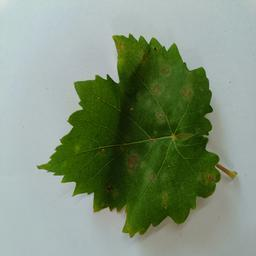Powdery-Mildew: (125, 145, 163, 191), (149, 56, 174, 93), (157, 188, 174, 205), (154, 106, 170, 123), (69, 139, 86, 155), (179, 87, 195, 103), (199, 172, 215, 188)
